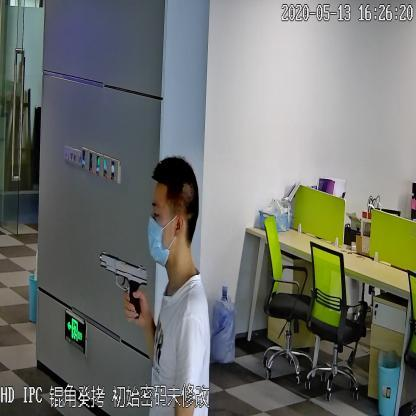gun: (98, 233, 153, 321)
